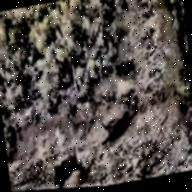boar: (49, 145, 87, 189)
